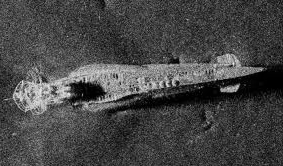ship: (11, 53, 269, 117)
